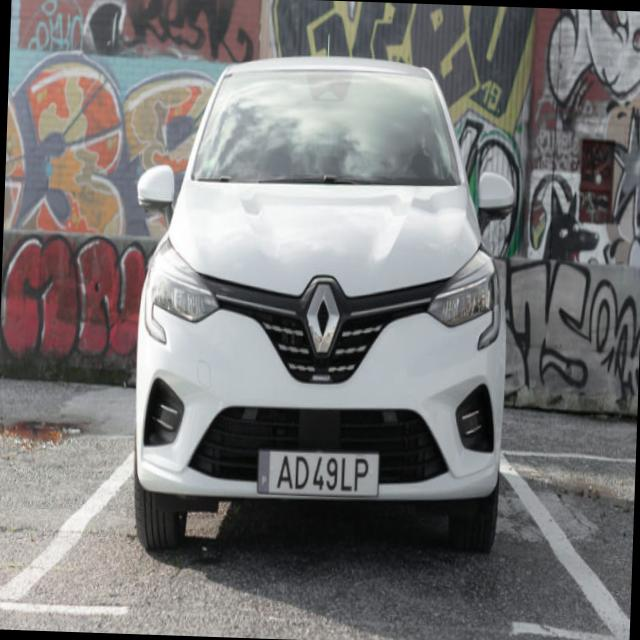portuguese-license-plates: (255, 446, 381, 499)
